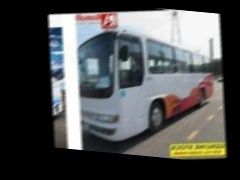bus: (67, 12, 228, 154)
